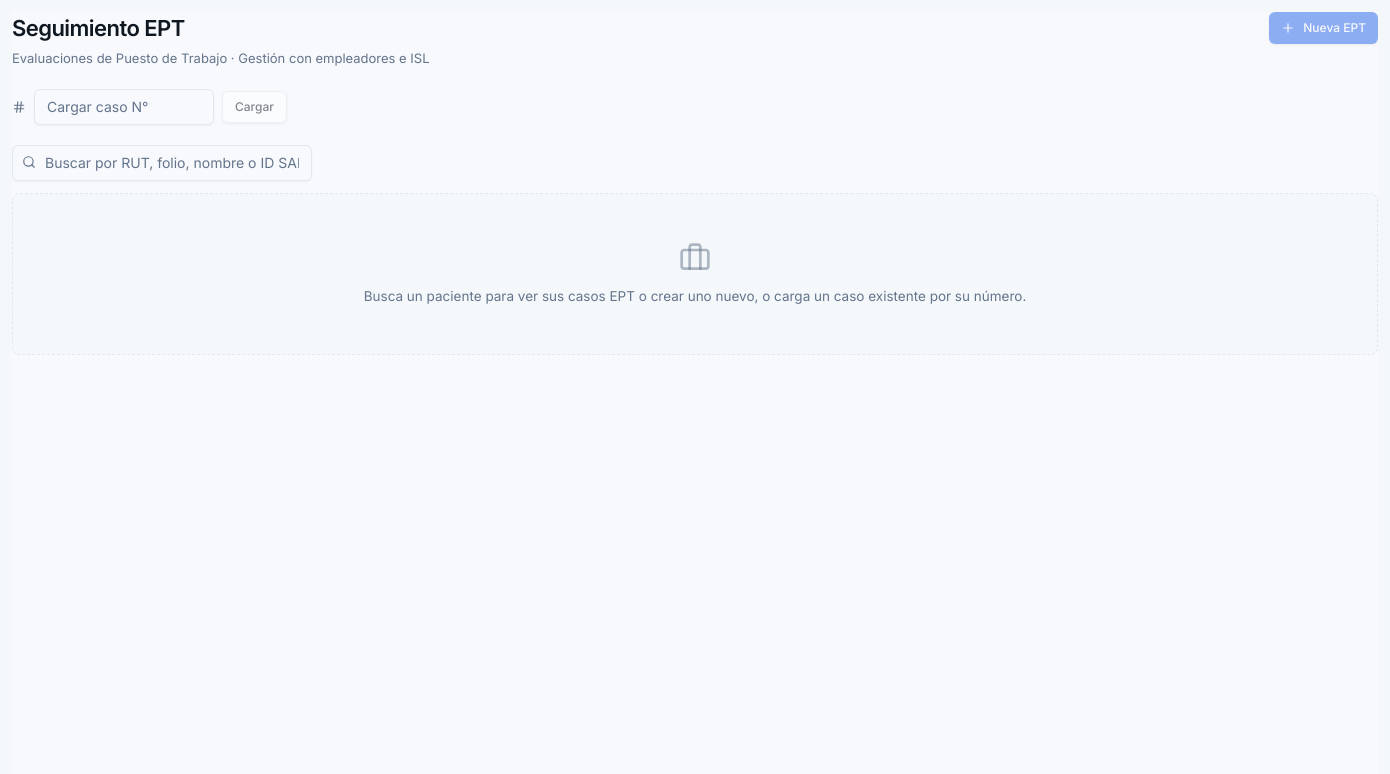
EptPage › al seleccionar un paciente lista sus casos EPT y permite abrir uno
Type "Juan" into the field with placeholder "Buscar por RUT, folio, nombre o ID SALUTEM" at (162, 162), box [12,144,312,180]
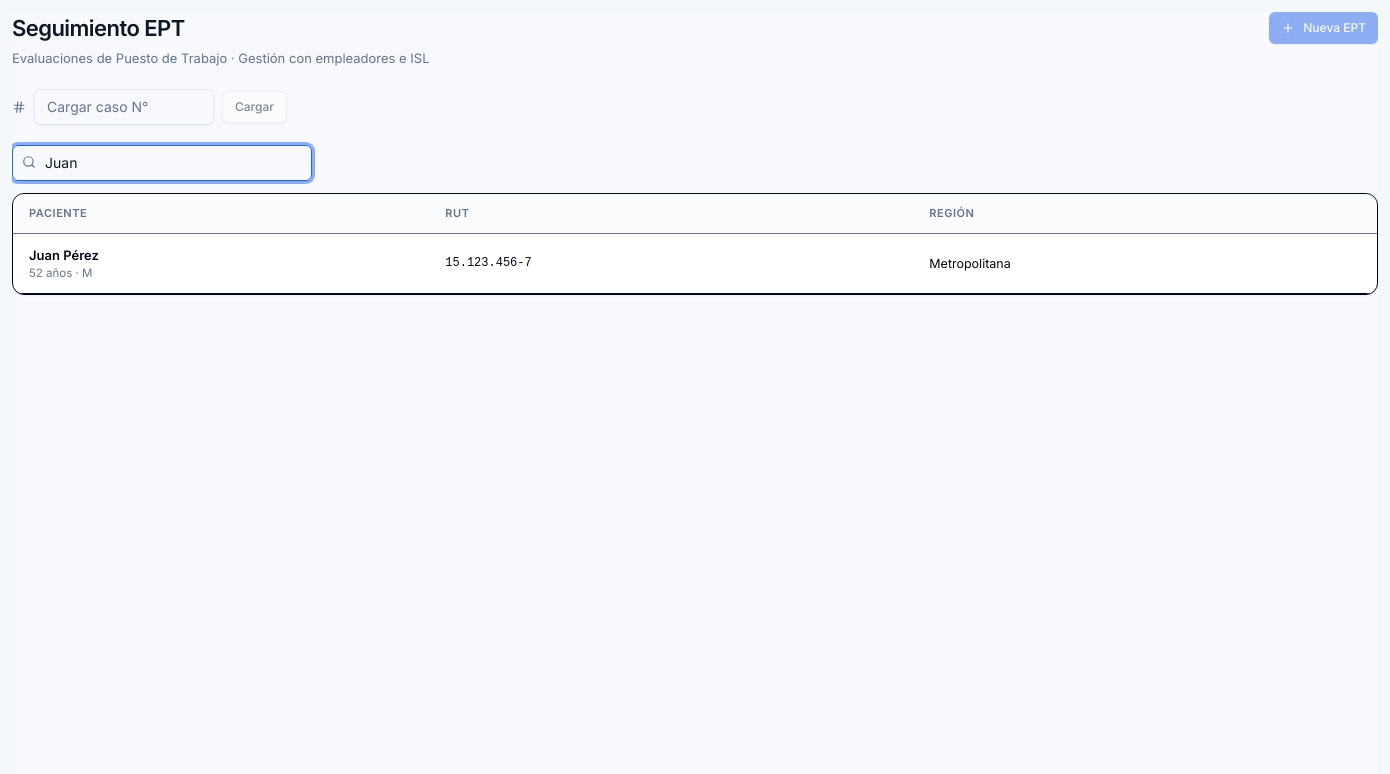
Click the text "Juan Pérez" at (64, 255), box [29,247,99,263]
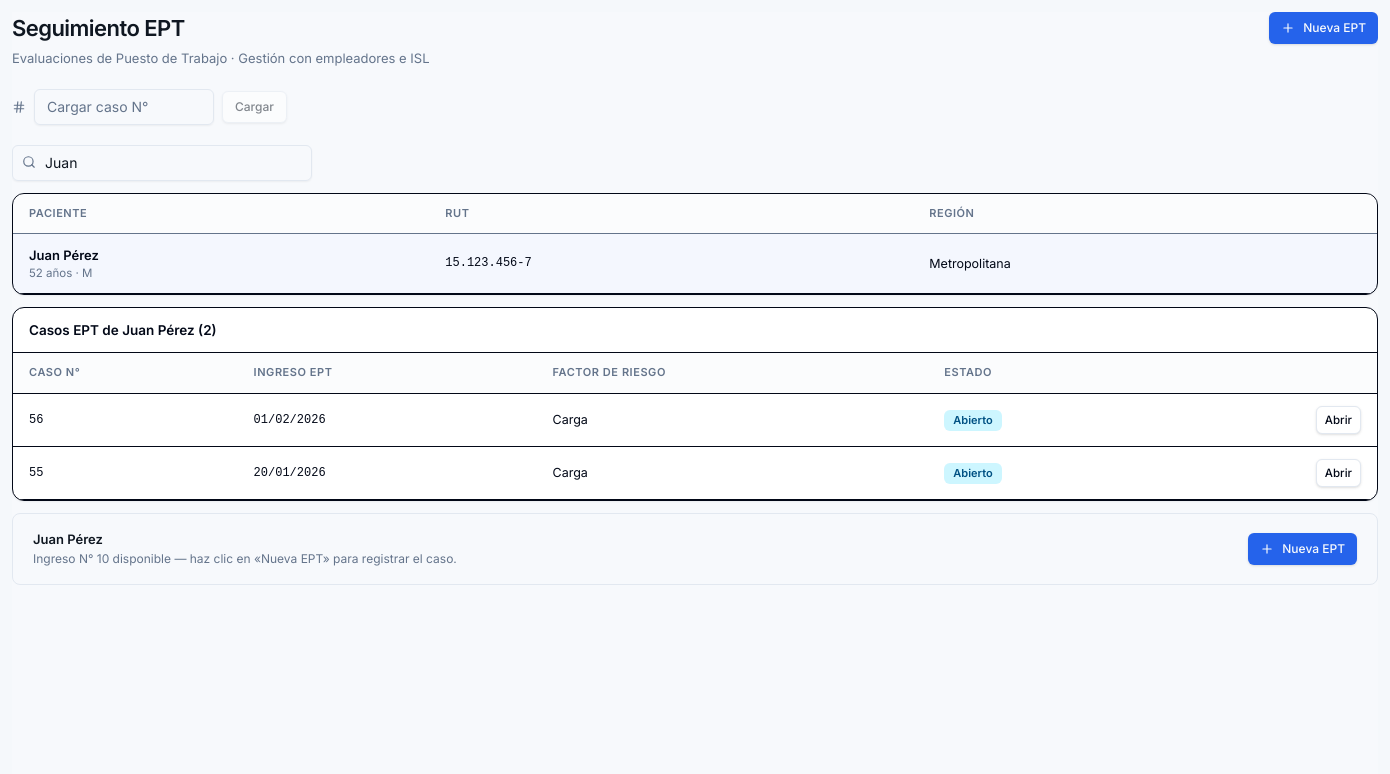
Expected: the element with test id "casos-ept-paciente" shows "Casos EPT de Juan Pérez (2)", [12,307,1378,501]
Click the button with aria-label "Abrir caso 55" at (1338, 473), box [1316,459,1361,487]
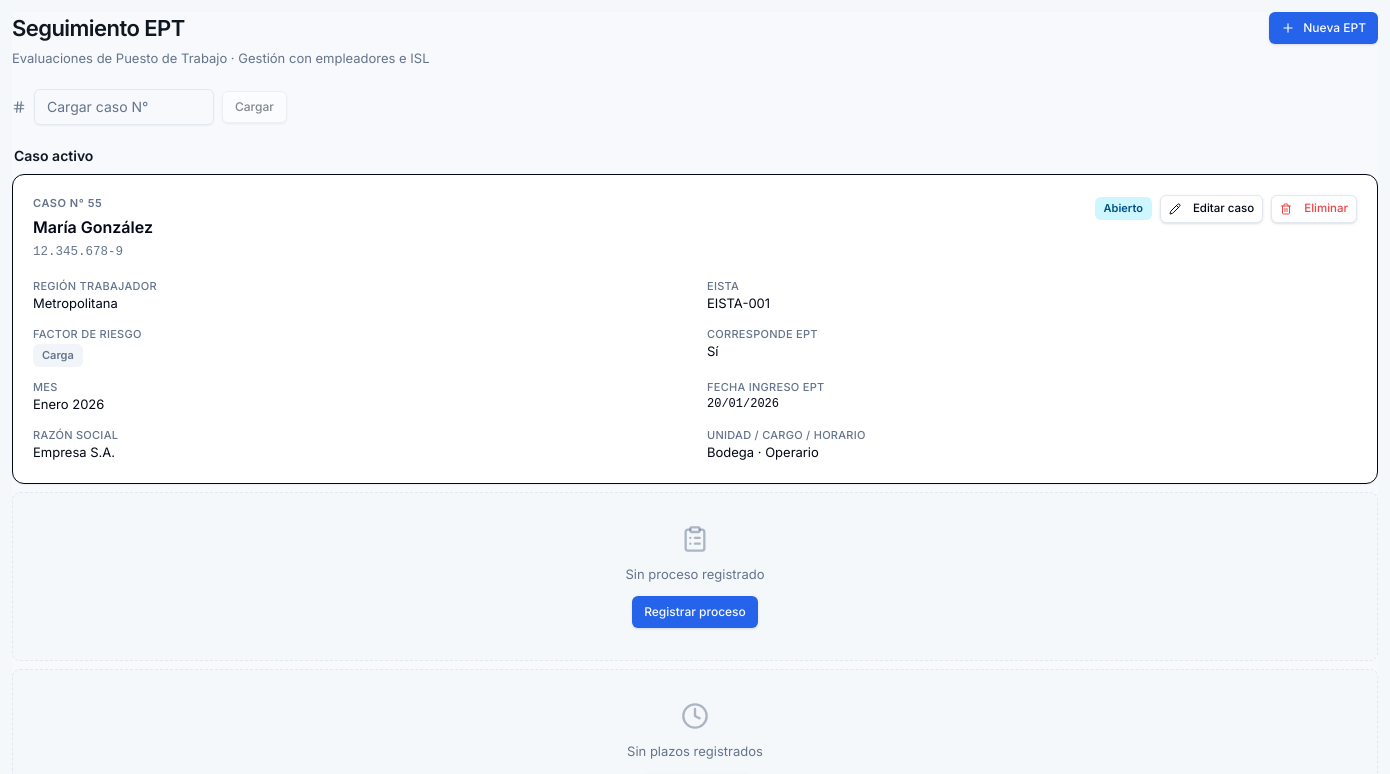
Expected: the text "Caso N° 55" is shown, [33,196,102,210]
